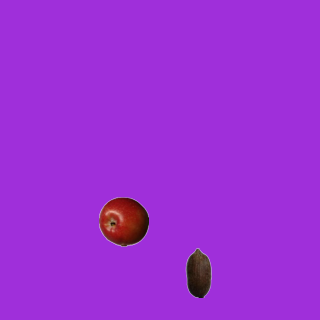Apple Braeburn: (98, 196, 148, 246)
Nut Pecan: (173, 247, 223, 297)
